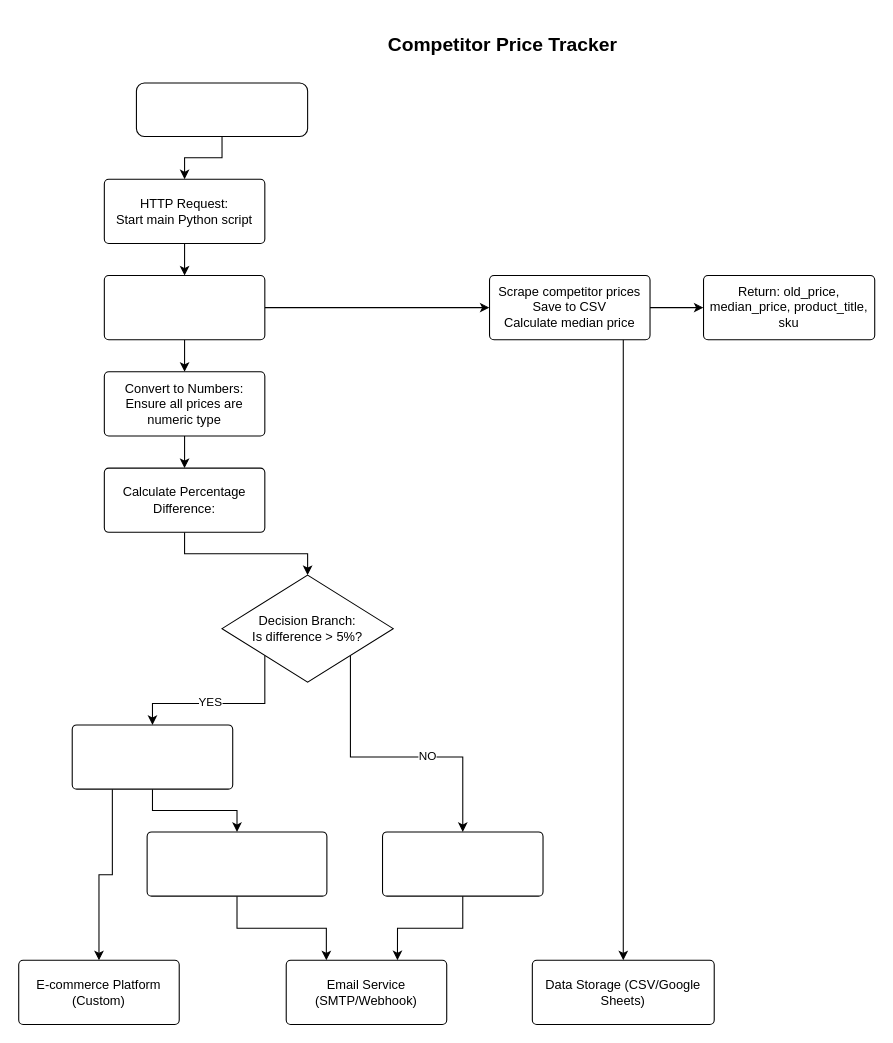
This 893x1043 diagram has some shape labels left out. Each missing label, with the centre of its shape:
Execute Python Script:: (x=184, y=307)
Schedule Trigger: Daily execution: (x=221, y=109)
Send Email: "NO UPDATE NEEDED - Product: [title], Difference: less than 5%": (x=462, y=863)
Send Email: "PRICE UPDATED - Product: [title], New Price: [median_price]": (x=236, y=863)
Trigger Webhook/API to update price in store: (x=152, y=756)
